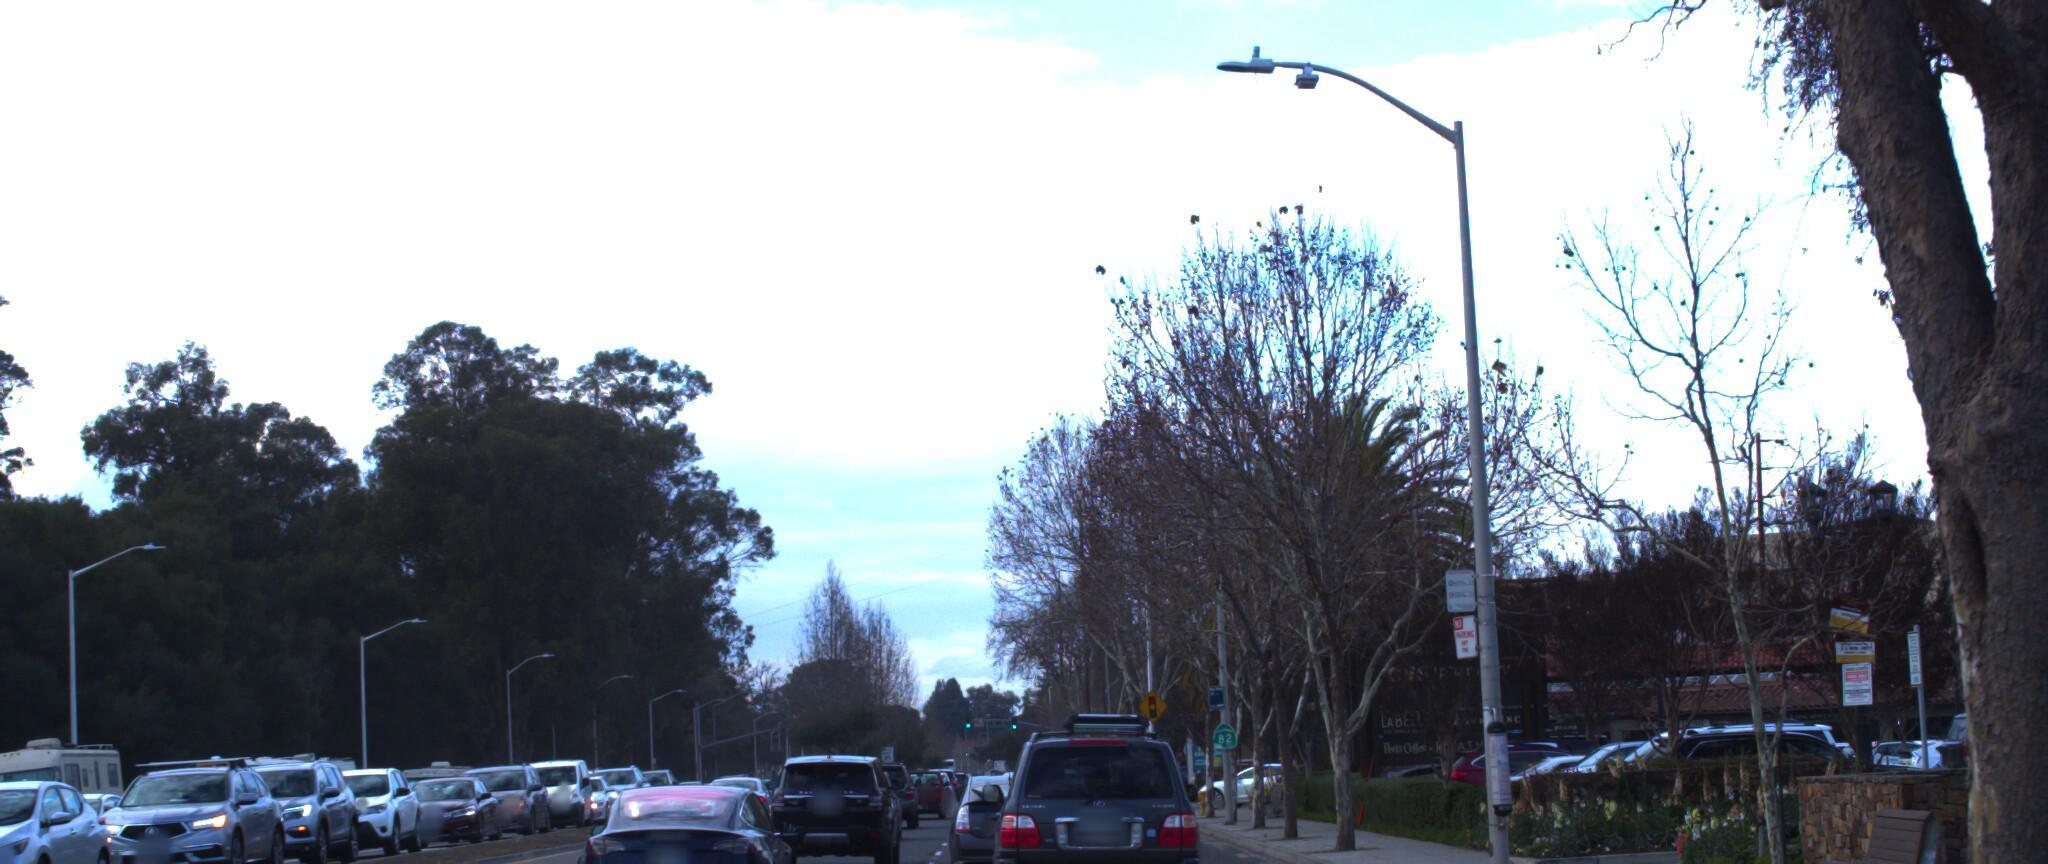car: (989, 698, 1211, 864), (1834, 733, 2048, 864), (1639, 703, 1911, 805), (91, 743, 291, 864), (569, 771, 803, 864), (765, 735, 904, 864), (1416, 724, 1624, 805), (223, 765, 371, 864), (920, 760, 1051, 864), (313, 753, 451, 850), (387, 761, 515, 837), (699, 764, 788, 825)
